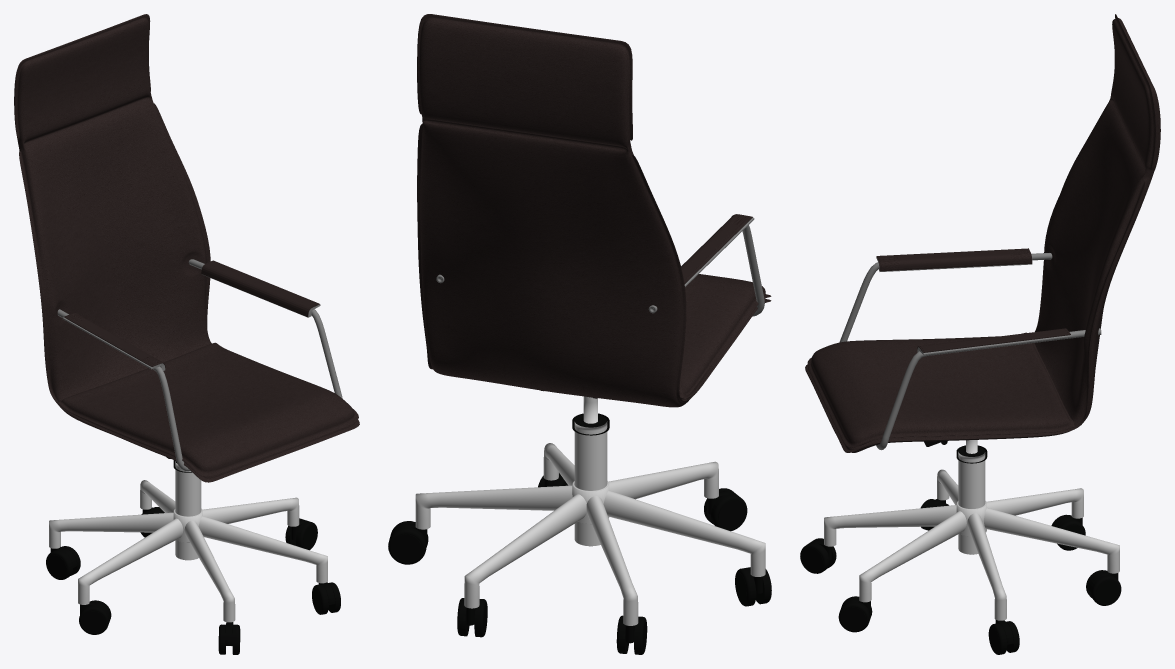
The model's file is Codutti_Genesis_chair.FBX.
3 renders of one model, left to right at view 1: azimuth 30°, elevation 25°; view 2: azimuth 150°, elevation 25°; view 3: azimuth 270°, elevation 25°, orthographic. The views are drawn at different scales.
Visible parts, largest first — view 1: part_1, part_2, Chrom_base, part_6, Chrome_handle, part_5, roliki.005, roliki.006, part_8, roliki.003, part_7; view 2: part_1, Chrom_base, part_2, roliki.003, part_5, part_7, roliki.006, roliki.004, roliki.005, Chrome_handle; view 3: part_1, part_2, Chrom_base, part_5, Chrome_handle, part_6, roliki.004, part_7, part_8, roliki.003, roliki.005.
Boxes of the visible parts, x1,y1,x2,y2 form: part_1: [14, 14, 359, 482]; part_2: [57, 342, 358, 476]; Chrom_base: [49, 460, 327, 622]; part_6: [201, 260, 319, 316]; Chrome_handle: [57, 259, 342, 471]; part_5: [64, 313, 165, 369]; roliki.005: [46, 546, 80, 579]; roliki.006: [79, 600, 111, 634]; part_8: [312, 582, 340, 614]; roliki.003: [285, 518, 317, 550]; part_7: [218, 622, 240, 654]; part_1: [417, 14, 771, 407]; Chrom_base: [415, 396, 765, 625]; part_2: [679, 274, 771, 399]; roliki.003: [388, 521, 428, 564]; part_5: [681, 214, 752, 283]; part_7: [704, 488, 747, 531]; roliki.006: [735, 567, 771, 606]; roliki.004: [457, 598, 487, 637]; roliki.005: [616, 615, 647, 654]; Chrome_handle: [436, 225, 764, 316]; part_1: [805, 14, 1160, 452]; part_2: [807, 332, 1074, 447]; Chrom_base: [824, 440, 1119, 620]; part_5: [876, 248, 1032, 271]; Chrome_handle: [839, 253, 1101, 450]; part_6: [917, 328, 1070, 352]; roliki.004: [1086, 570, 1121, 605]; part_7: [800, 538, 836, 573]; part_8: [838, 596, 872, 632]; roliki.003: [988, 620, 1019, 654]; roliki.005: [1051, 514, 1085, 550].
Size of the model in its own units: 70.37 by 126 by 78.42.
